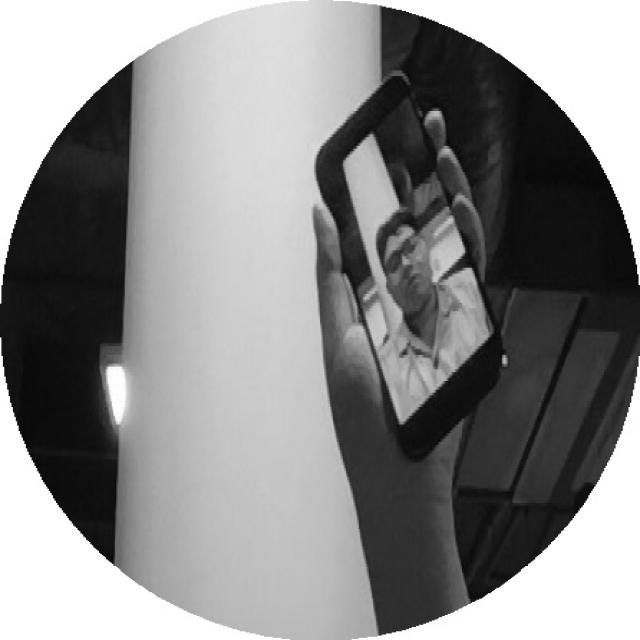fake: (282, 61, 523, 472), (298, 67, 518, 466)
